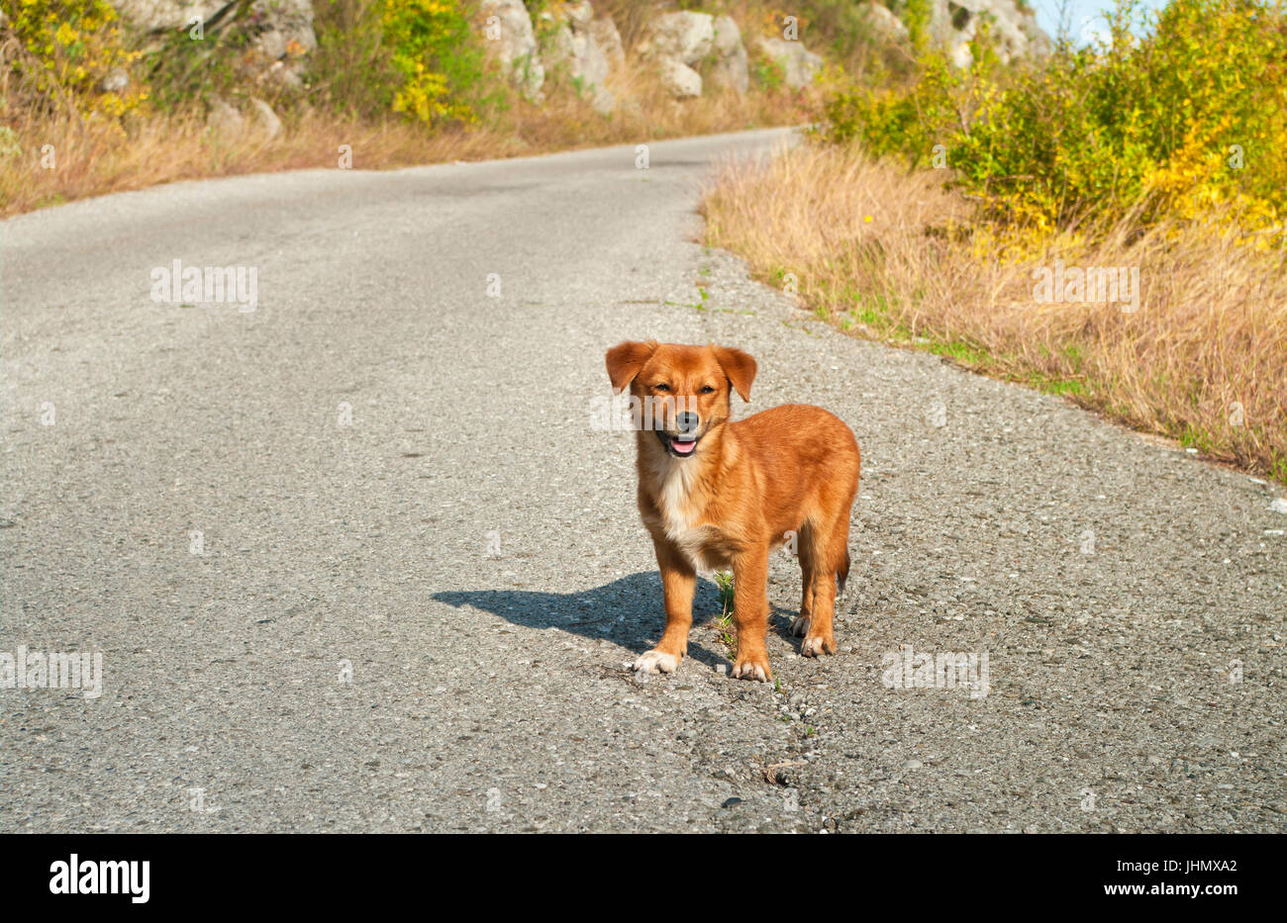Dog: (543, 312, 909, 708)
